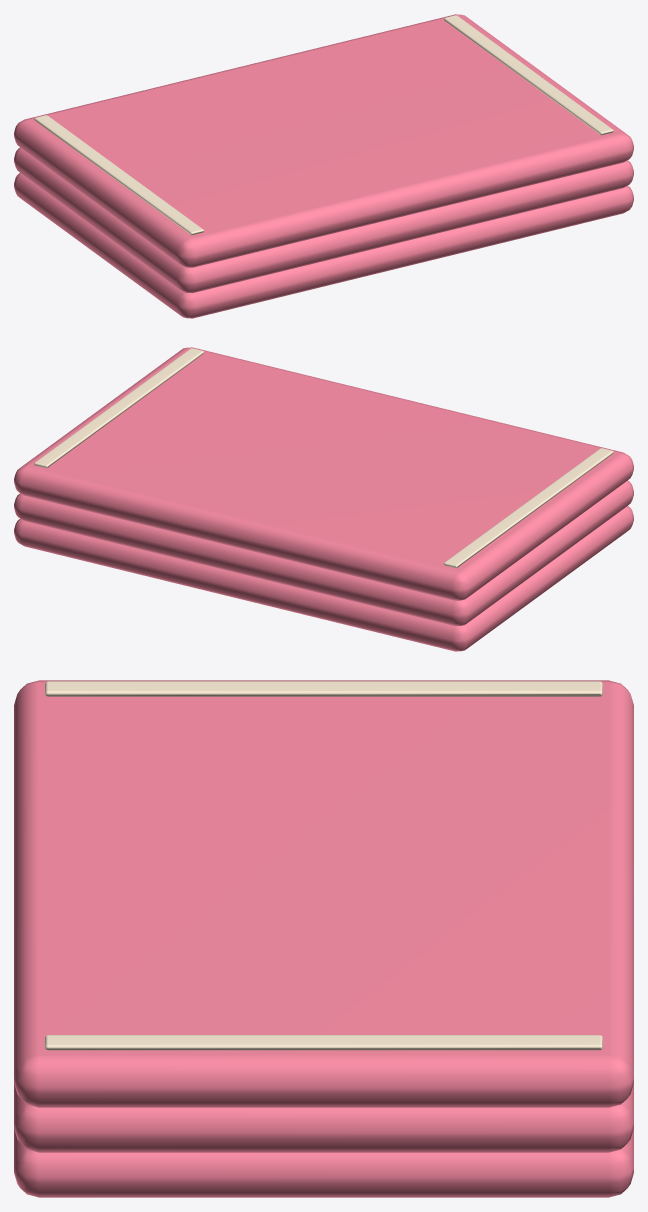
File: towel.glb
3 views of the same model, one above another, from view 1: azimuth 30°, elevation 25°; view 2: azimuth 150°, elevation 25°; view 3: azimuth 270°, elevation 25° (orthographic). The views are drawn at different scales.
Parts seen in each view (by area): view 1: Towel; view 2: Towel; view 3: Towel.
Part boxes in pixels (<box>): Towel: <box>14,14,633,318</box>; Towel: <box>14,347,633,651</box>; Towel: <box>14,680,633,1197</box>.
Bounding box in the file's own units: 0.3 × 0.052 × 0.2.
